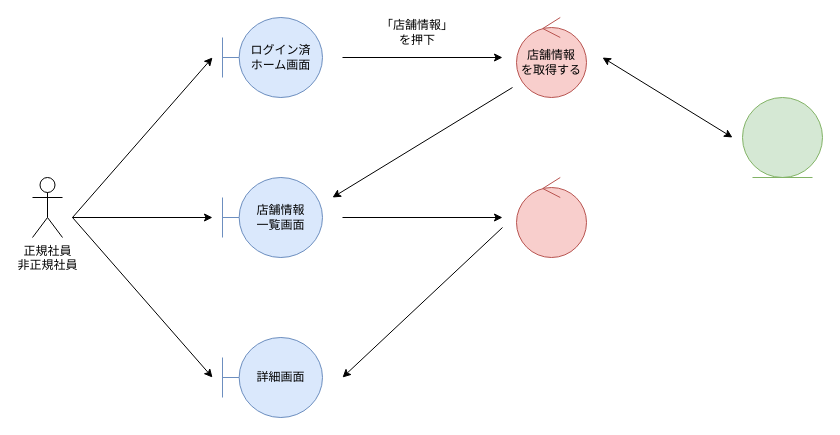
Image size: 840x435. Some labels were removed from this diagram. Here are the shapes that lost their labels. From the top down, the centre of each, then its label:
At (782,137): "店舗情報".
At (551,217): "表示する".
